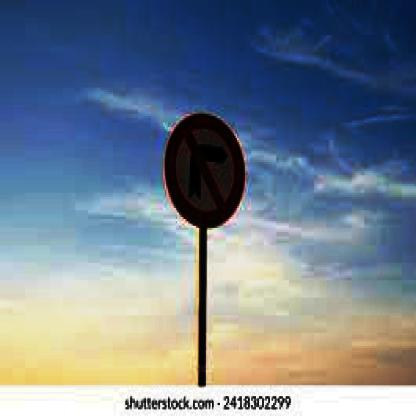No right turn: (168, 111, 243, 230)
